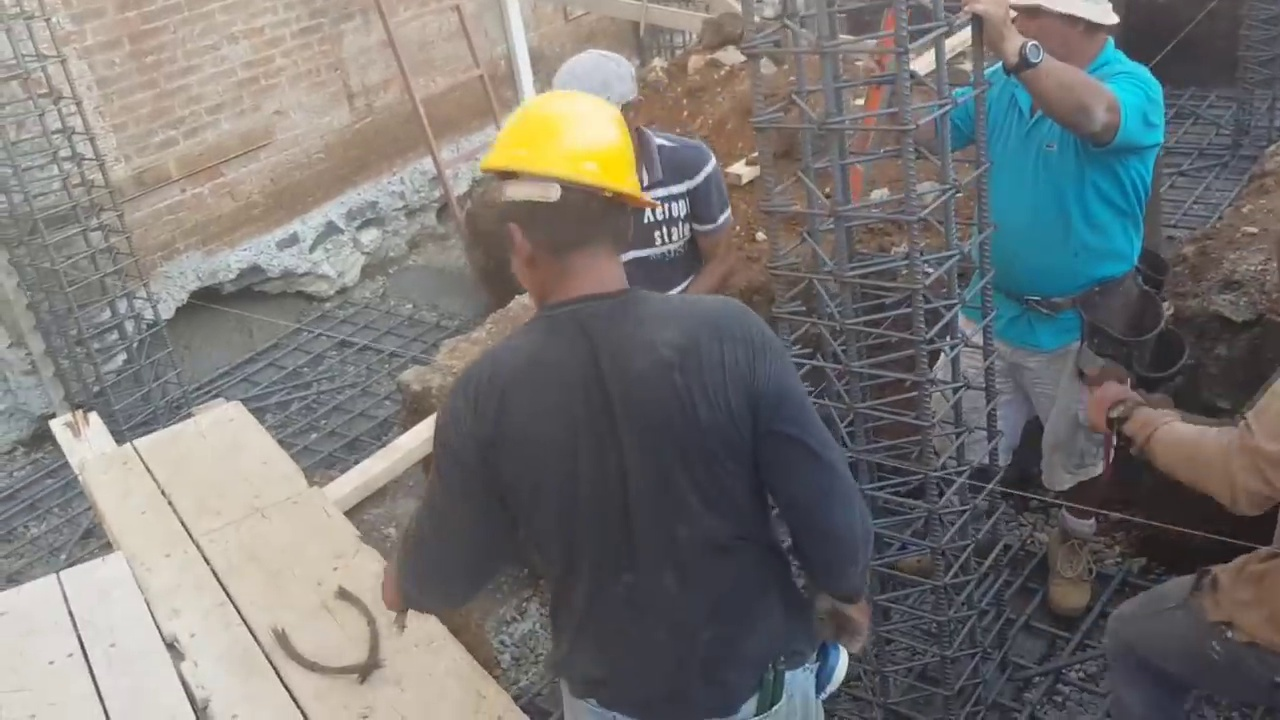helmet: (462, 72, 657, 231)
helmet-off: (545, 50, 652, 144), (1000, 3, 1119, 81), (694, 8, 745, 50)
helmet-on: (464, 72, 667, 315)
person: (376, 79, 865, 714), (911, 0, 1170, 612), (1084, 316, 1280, 718), (542, 45, 756, 302)
